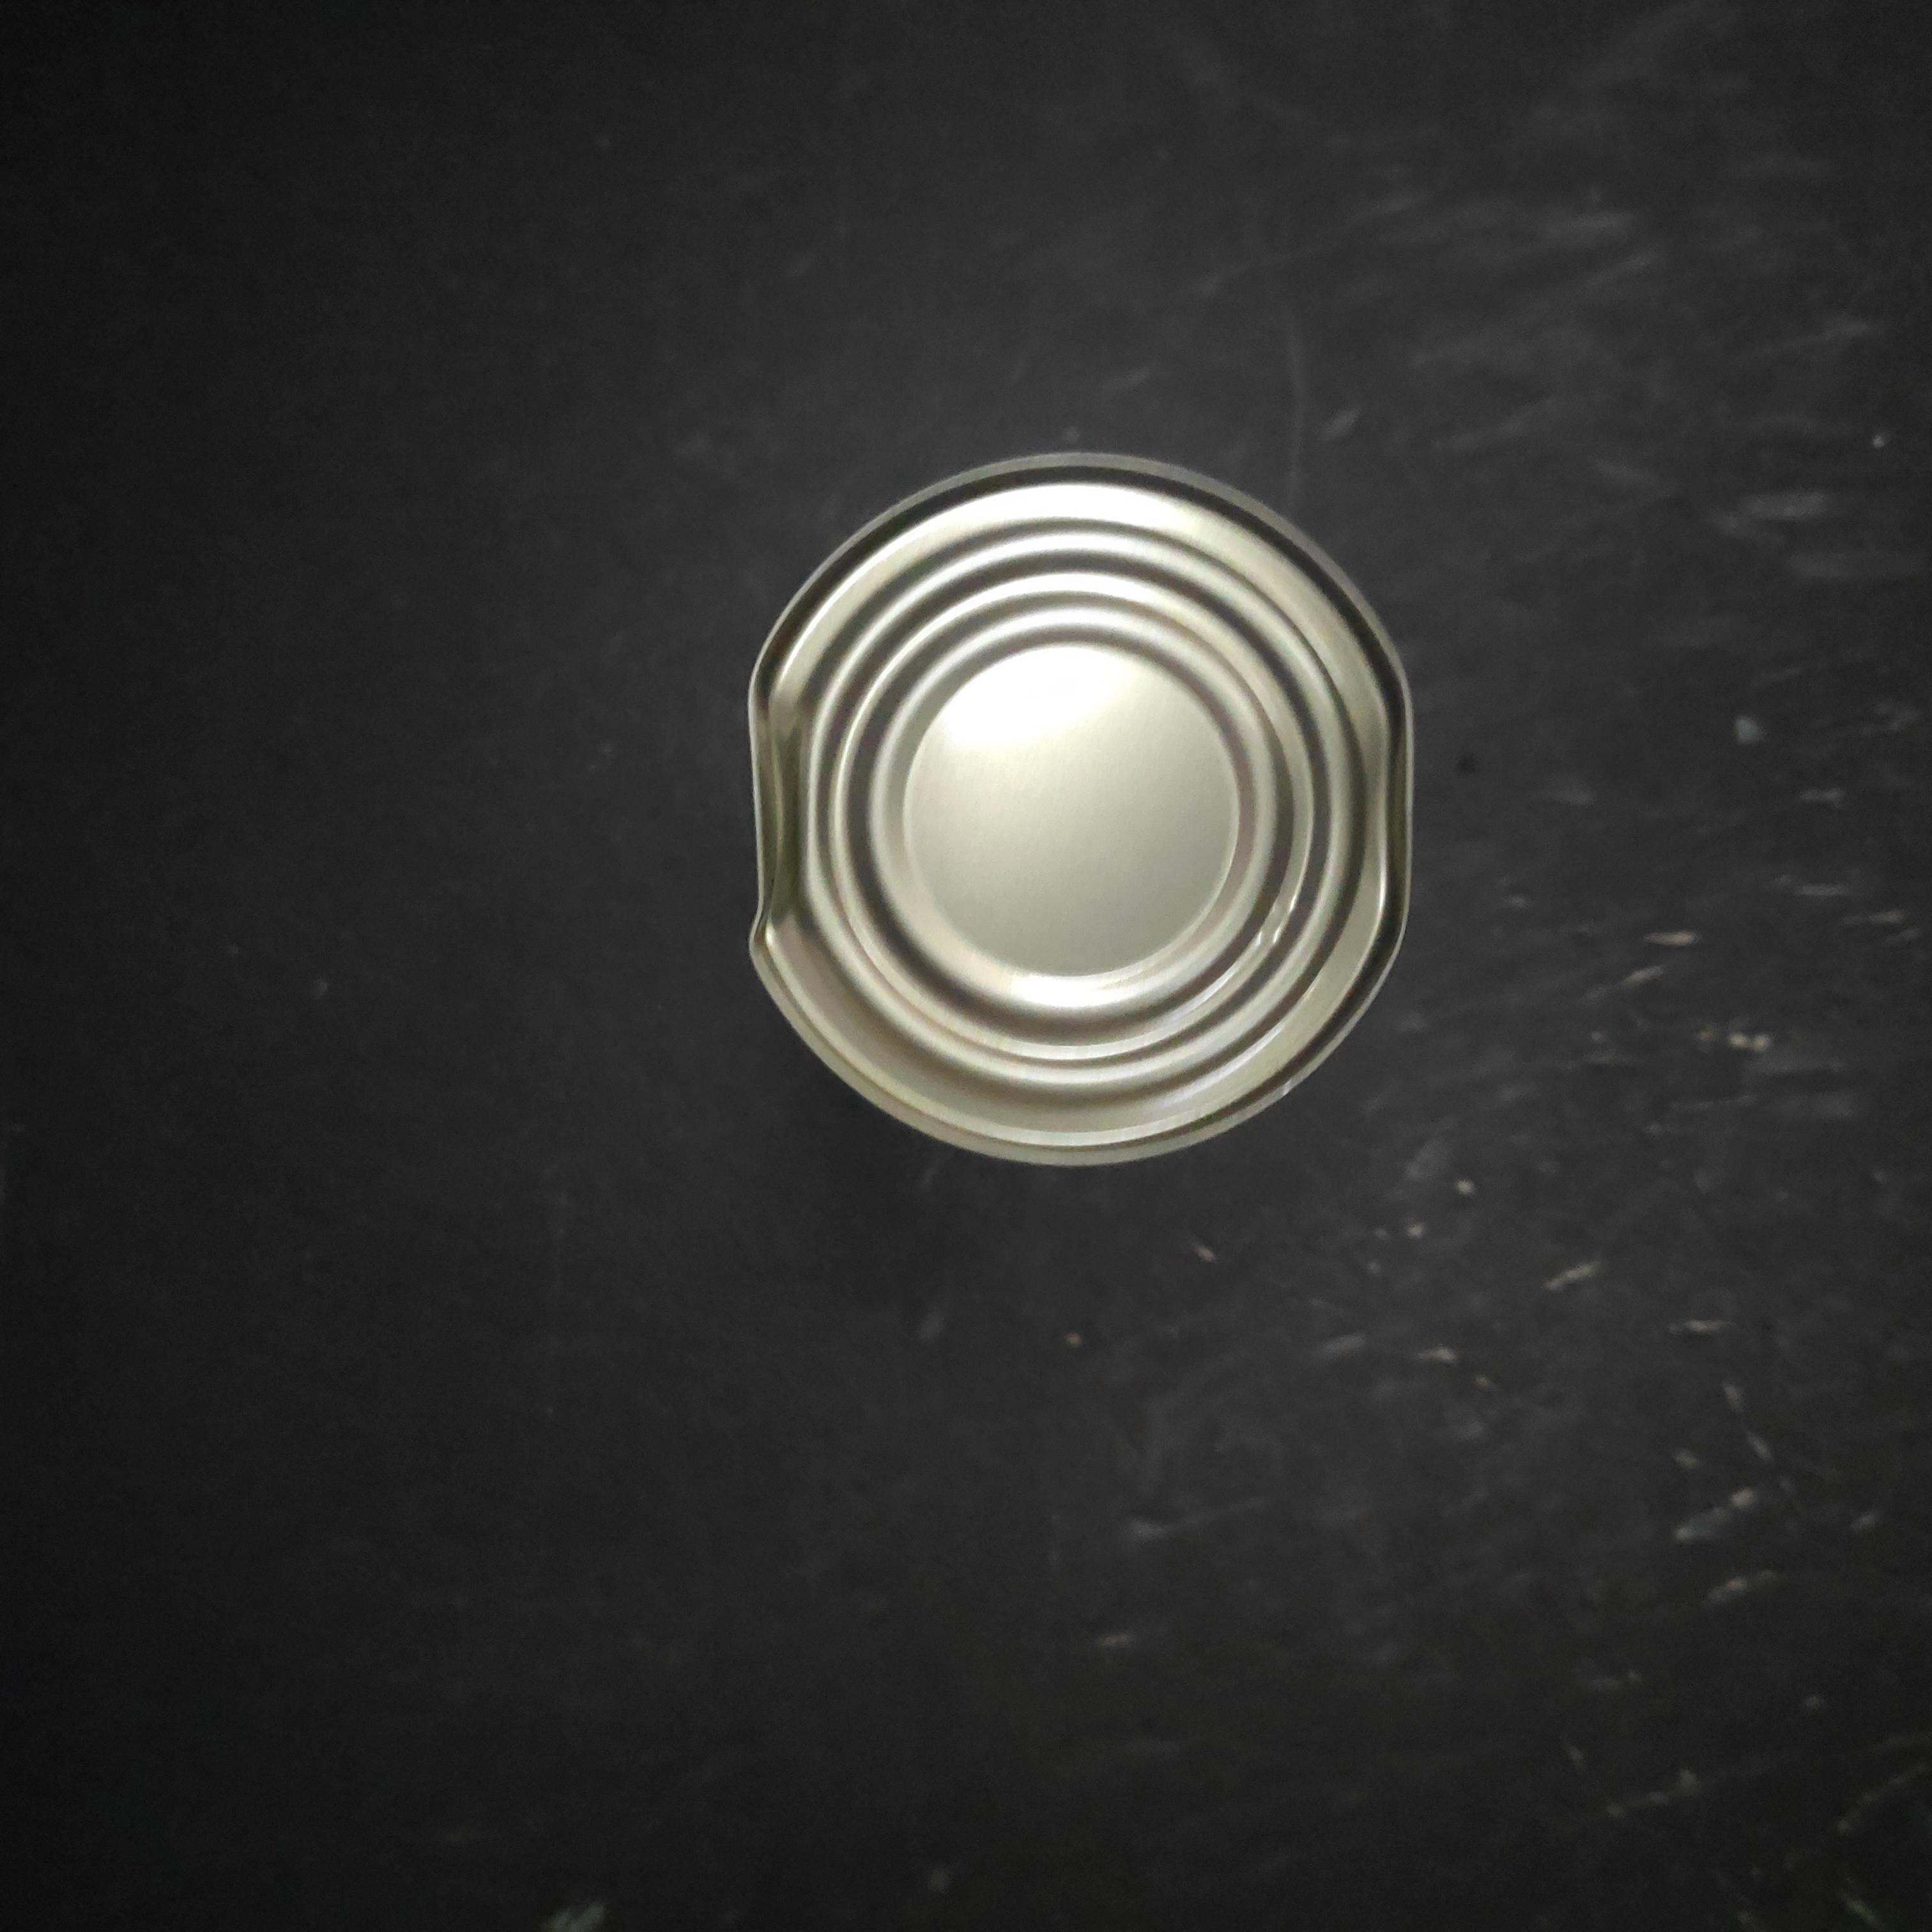Minor Defect: (506, 755, 1205, 1497)
